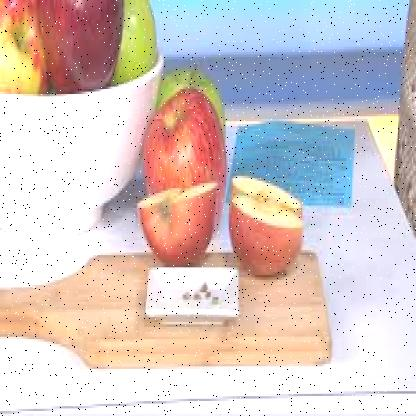apple: (152, 84, 221, 193), (38, 7, 116, 92), (158, 62, 234, 136), (0, 0, 42, 92), (111, 5, 158, 84)
damaged_apple: (226, 171, 306, 280), (136, 184, 222, 262)
